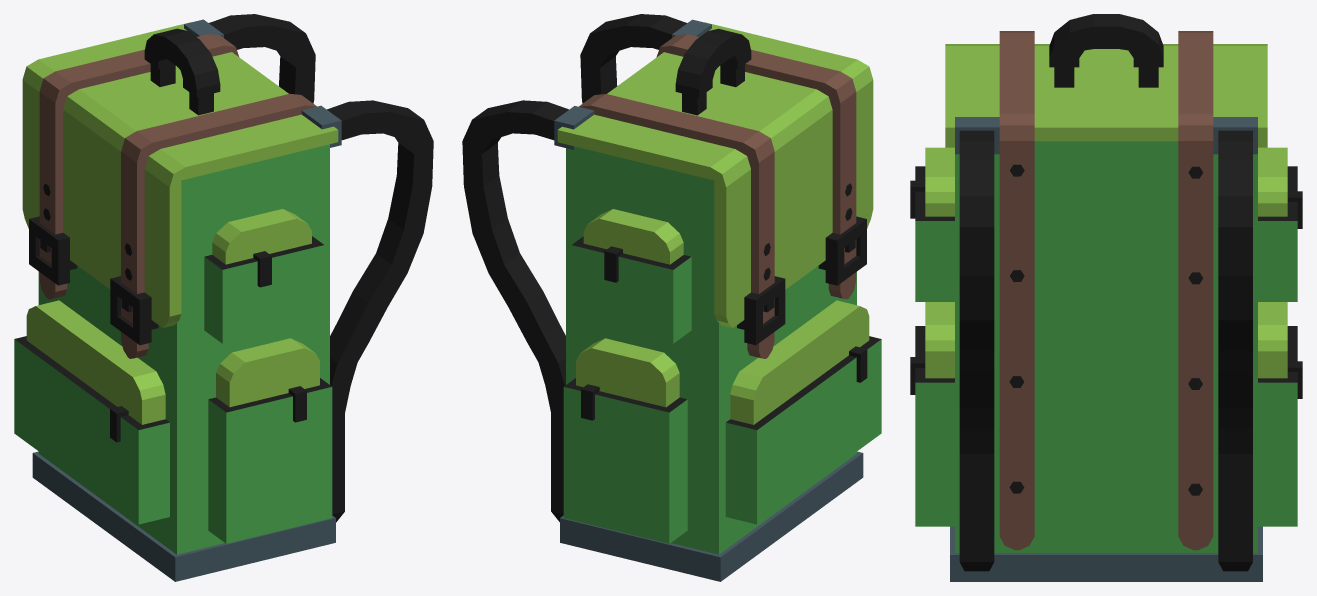
File: Backpack_Small.fbx
The picture shows the model from 3 angles, left to right: view 1: azimuth 30°, elevation 25°; view 2: azimuth 150°, elevation 25°; view 3: azimuth 270°, elevation 25°; orthographic projection. The views are drawn at different scales.
Visible parts, largest first — view 1: group_357203529; view 2: group_357203529; view 3: group_357203529.
Part boxes in pixels (x1,y1,x2,y2): group_357203529: (14,14,433,581); group_357203529: (462,14,881,581); group_357203529: (910,14,1302,581).
Bounding box in the file's own units: 75 × 115 × 79.
